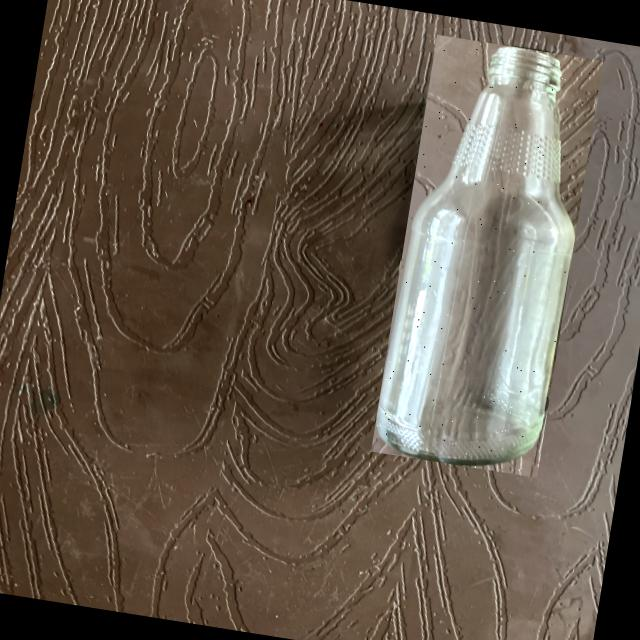Glass_Bottle: (377, 47, 574, 465)
